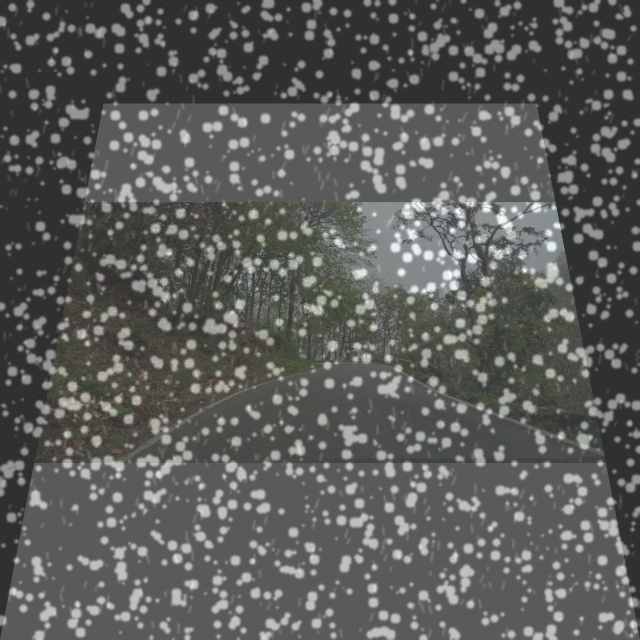Left_Hand_Curve: (230, 308, 251, 333)
